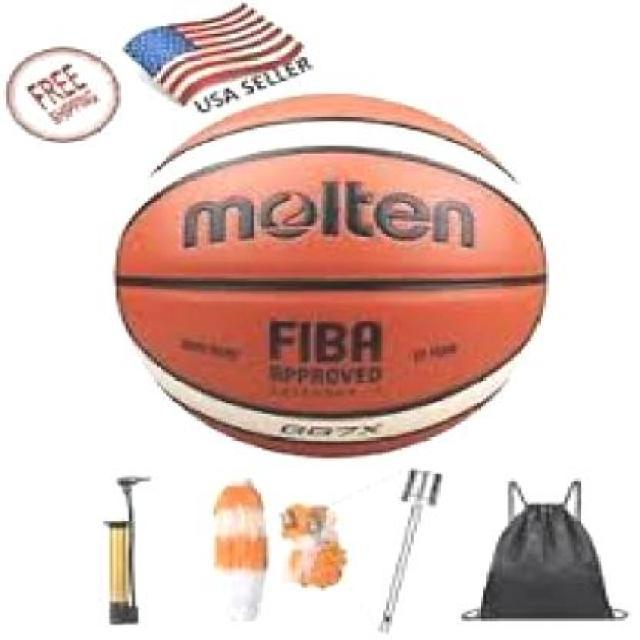Ball: (114, 97, 549, 457)
